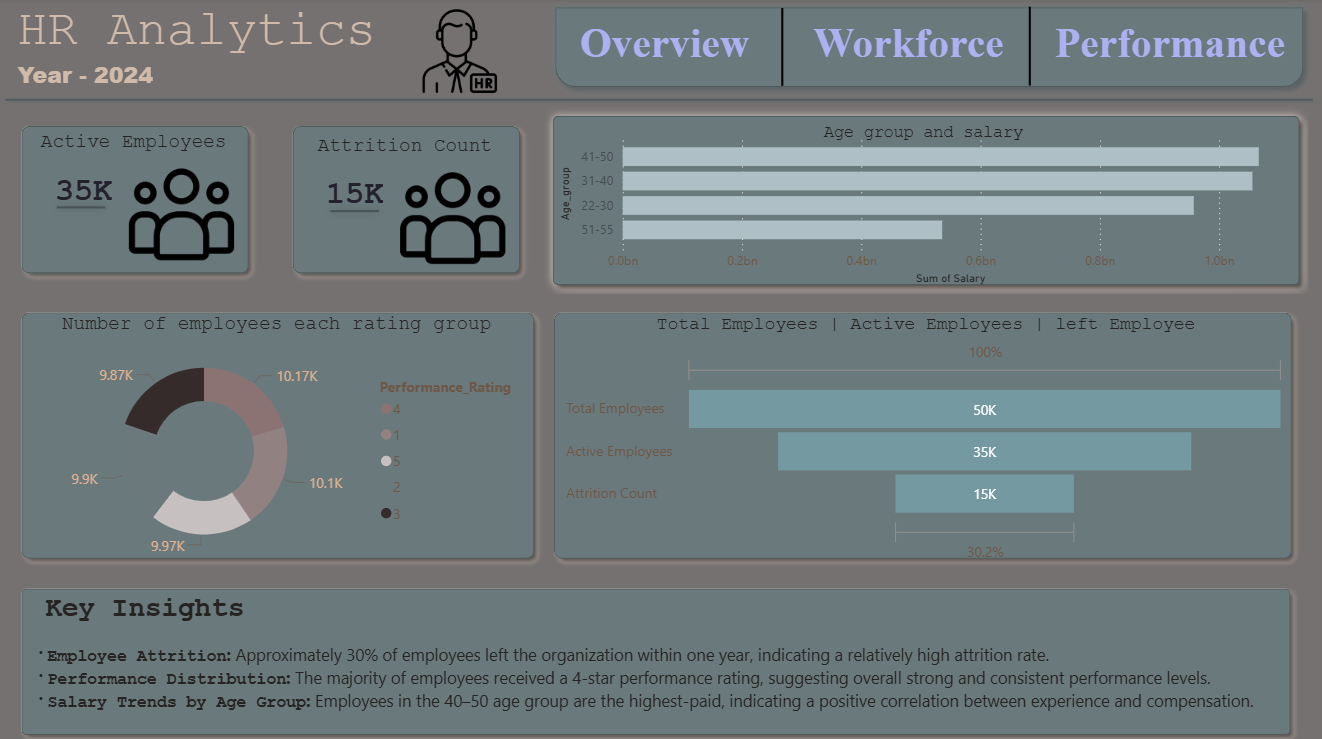

What the dashboard file says about the page in this screenshot:
{"tool":"powerbi","page":{"name":"Overview","canvas":[1280,720],"ordinal":1},"visuals":[{"type":"shape","box":[0,89.3,1280,12.2],"z":0,"group":"g2"},{"type":"shape","box":[15.9,114.9,237.2,160.2],"z":0},{"type":"group","id":"g1","title":"Group 1","box":[531,0,740,95],"z":1000,"group":"g2"},{"type":"shape","box":[277.6,114.9,237.2,160.2],"z":1000},{"type":"shape","box":[528.3,105.2,738.6,181],"z":2000},{"type":"actionButton","title":"     Overview","box":[540,20,210,56.2],"z":3000,"group":"g2"},{"type":"shape","box":[15.7,294.4,512.7,255.8],"z":3000},{"type":"shape","box":[531,0,740,95],"z":4000,"group":"g1"},{"type":"actionButton","title":"     Workforce ","box":[776.2,20,210,56.2],"z":4000,"group":"g2"},{"type":"shape","box":[529.6,294.4,729.9,255.8],"z":4000},{"type":"group","id":"g2","title":"Group 2","box":[0,0,1280,101.3],"z":5000},{"type":"shape","box":[706,10,106.2,75],"z":5000,"group":"g1"},{"type":"actionButton","title":"     Performance","box":[1020,20,227.5,56.2],"z":5000,"group":"g2"},{"type":"group","id":"g3","title":"Group 3","box":[25,124.7,217.1,135.7],"z":6000},{"type":"group","id":"g4","title":"Group 3","box":[287.4,128.4,217.1,135.7],"z":7000},{"type":"clusteredBarChart","title":"Age_group","fields":{"Category":["employees_fixed.Age_group"],"Y":["Sum(employees_fixed.Salary)"]},"box":[539.3,122.3,719,160.2],"z":8000},{"type":"shape","box":[944.8,8.8,106.2,76.2],"z":9000,"group":"g1"},{"type":"textbox","box":[631,114.9,528.3,31.8],"z":9000},{"type":"cardVisual","fields":{"Data":["Api.Active Employees"]},"box":[26.9,124.7,215.2,122.3],"z":10000,"group":"g3"},{"type":"cardVisual","fields":{"Data":["Api.Attrition Count"]},"box":[289.3,128.4,215.2,122.3],"z":10000,"group":"g4"},{"type":"donutChart","title":"Number of employees  each rating group","fields":{"Category":["employees_fixed.Performance_Rating"],"Y":["CountNonNull(employees_fixed.Name)"]},"box":[26.5,304,488.6,246.1],"z":10000},{"type":"textbox","box":[25,125,215,43.8],"z":11000,"group":"g3"},{"type":"textbox","box":[287.4,128.7,215,43.8],"z":11000,"group":"g4"},{"type":"funnel","title":"Total Employees | Active Employees  | left Employee","fields":{"Y":["Api.Total Employees","Api.Active Employees","Api.Attrition Count"]},"box":[545.3,305.2,704.6,244.9],"z":11000},{"type":"image","box":[380,10.9,135.1,80.8],"z":12000,"group":"g5"},{"type":"image","box":[116.2,158.9,123.5,101.5],"z":12000,"group":"g3"},{"type":"image","box":[378.6,162.6,123.5,101.5],"z":12000,"group":"g4"},{"type":"shape","box":[15.7,561,1242.6,159.3],"z":12000},{"type":"textbox","box":[15.7,0,381.2,102.5],"z":13000,"group":"g5"},{"type":"shape","box":[50.3,177.8,62.7,49.5],"z":13000,"group":"g3"},{"type":"shape","box":[315.1,181.5,62.7,49.5],"z":13000,"group":"g4"},{"type":"textbox","box":[26.5,569.4,1231.8,136.3],"z":13000},{"type":"group","id":"g5","title":"Group 4","box":[15.7,0,499.5,102.5],"z":14000}]}

Visuals, with their boxes in screenshot pixels (x1, y1, x2, y2), scaled from the page's 1280x720 canvas onto the 1322x739 screenshot:
shape: 0,92,1321,104
shape: 16,118,261,282
"Group 1" group: 548,0,1313,98
shape: 287,118,532,282
shape: 546,108,1308,294
"     Overview" actionButton: 558,21,775,78
shape: 16,302,546,565
shape: 548,0,1313,98
"     Workforce " actionButton: 802,21,1019,78
shape: 547,302,1301,565
"Group 2" group: 0,0,1321,104
shape: 729,10,839,87
"     Performance" actionButton: 1053,21,1288,78
"Group 3" group: 26,128,250,267
"Group 3" group: 297,132,521,271
"Age_group" clusteredBarChart: 557,126,1300,290
shape: 976,9,1085,87
textbox: 652,118,1197,151
cardVisual - Api.Active Employees: 28,128,250,254
cardVisual - Api.Attrition Count: 299,132,521,257
"Number of employees  each rating group" donutChart: 27,312,532,565
textbox: 26,128,248,173
textbox: 297,132,519,177
"Total Employees | Active Employees  | left Employee" funnel: 563,313,1291,565
image: 392,11,532,94
image: 120,163,248,267
image: 391,167,519,271
shape: 16,576,1300,738
textbox: 16,0,410,105
shape: 52,182,117,233
shape: 325,186,390,237
textbox: 27,584,1300,724
"Group 4" group: 16,0,532,105
